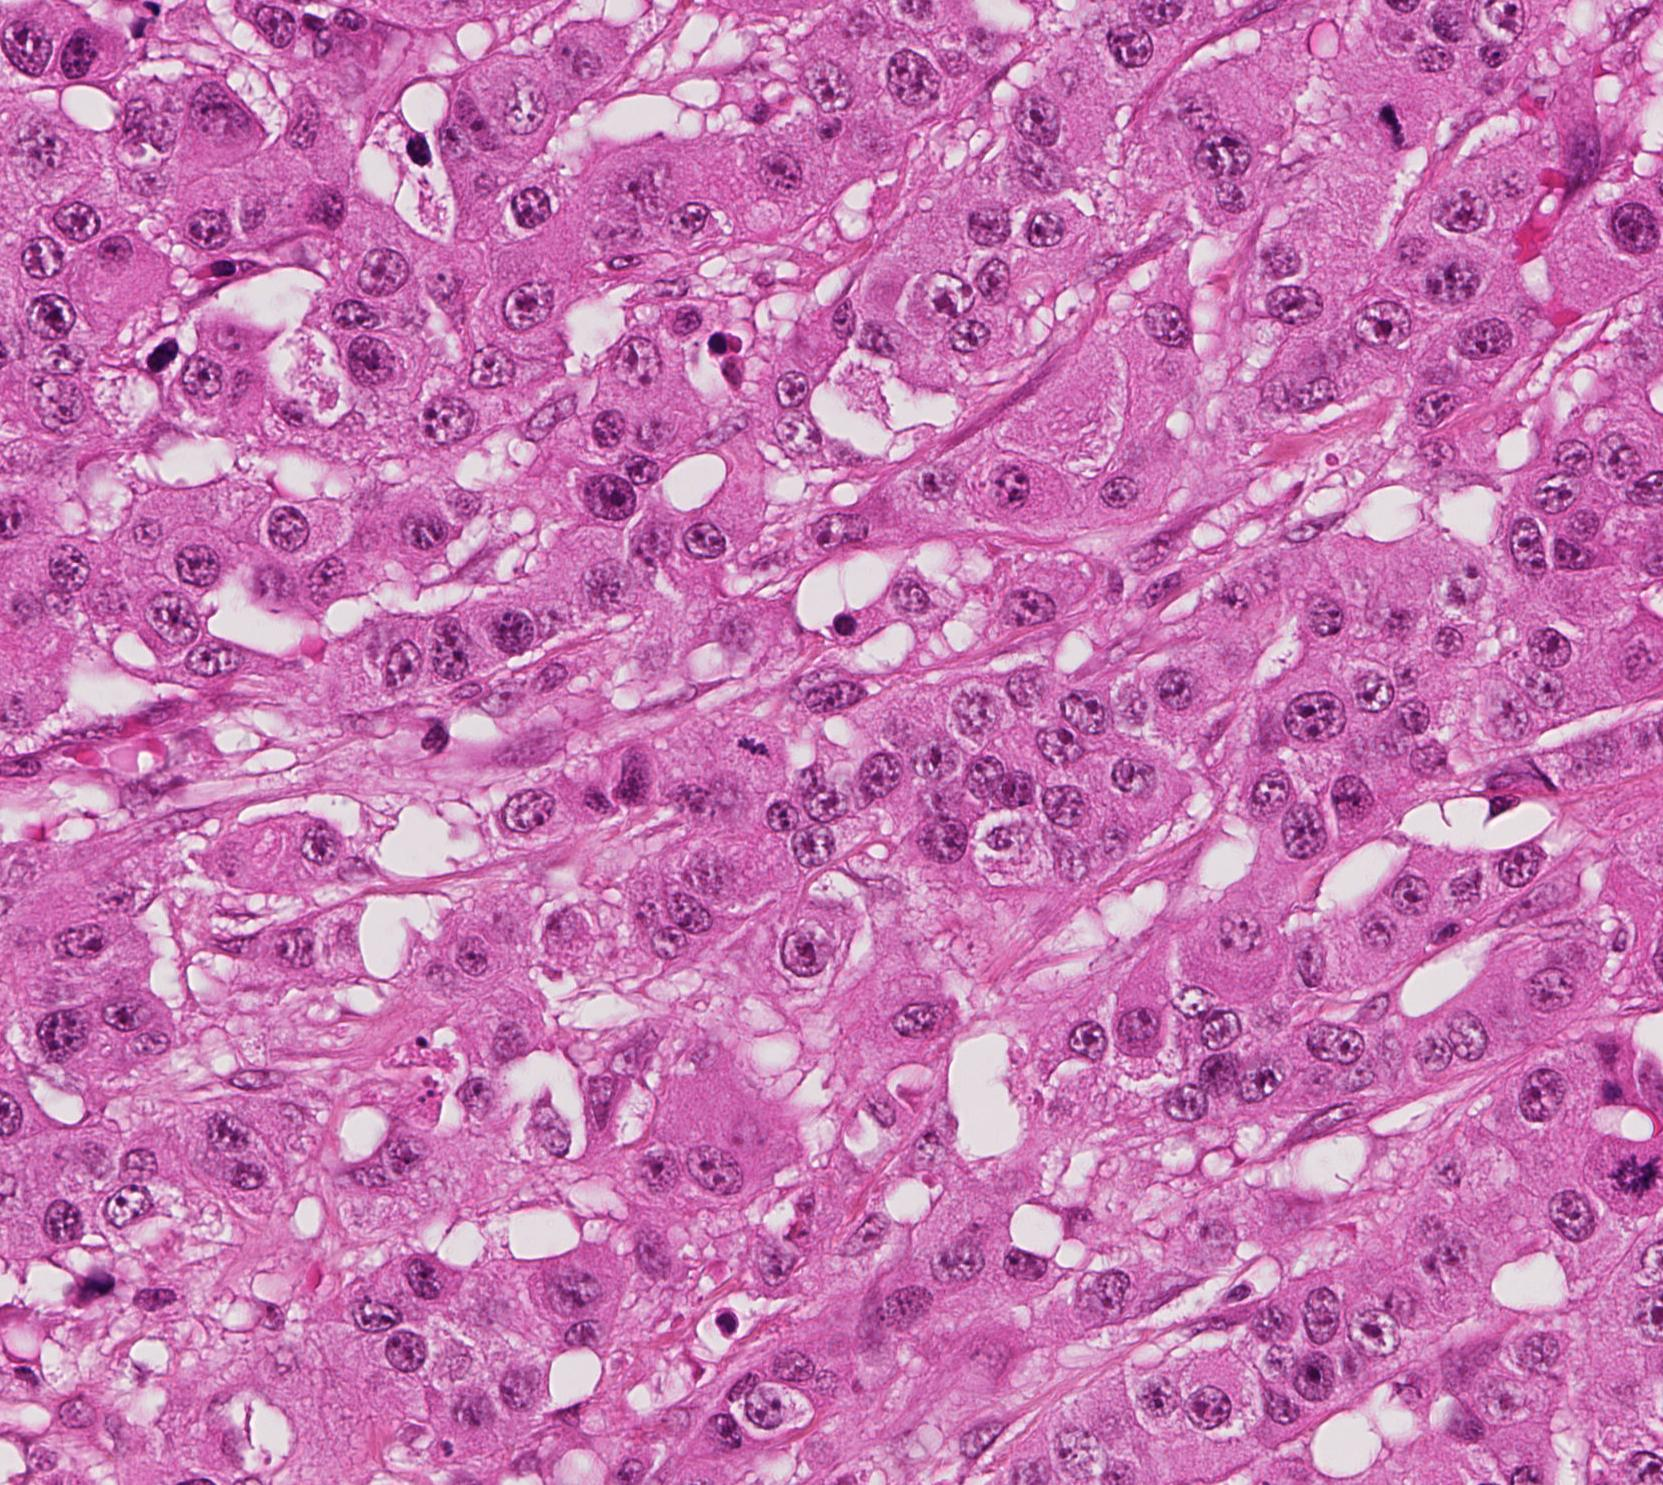mitosis: (1358, 90, 1418, 151), (717, 708, 777, 768), (1588, 1150, 1649, 1208)
